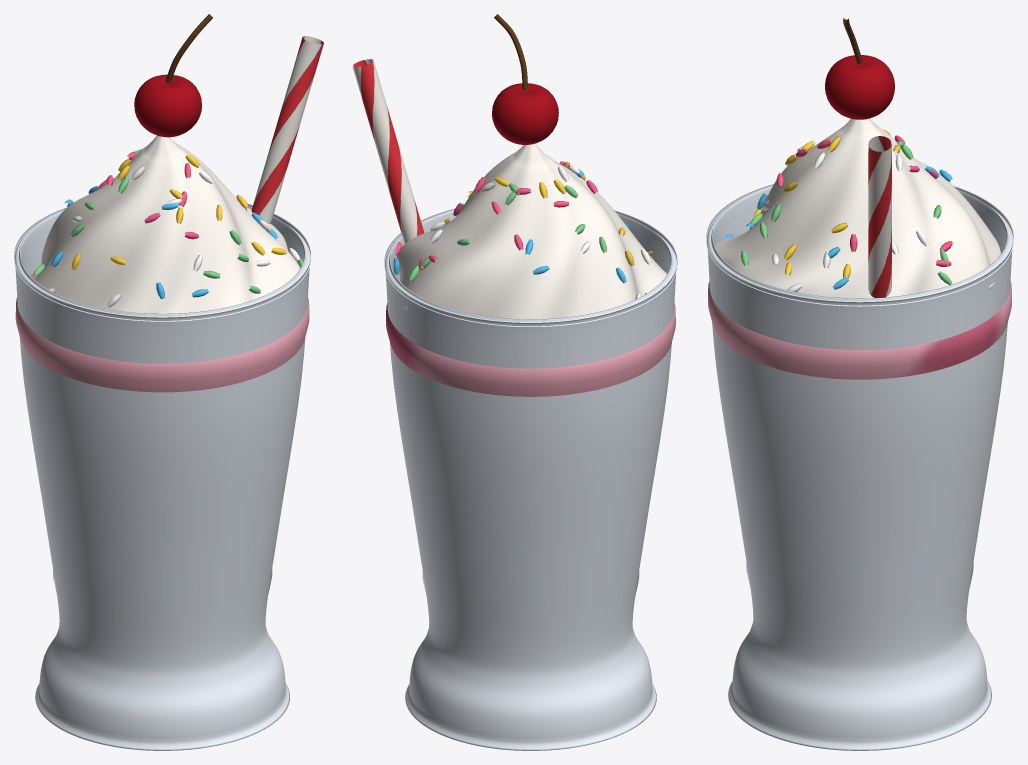
File: milkshake.glb
The picture shows the model from 3 angles, left to right: view 1: azimuth 30°, elevation 25°; view 2: azimuth 150°, elevation 25°; view 3: azimuth 270°, elevation 25°; orthographic projection. The views are drawn at different scales.
Parts seen in each view (by area): view 1: milkshake-morango; view 2: milkshake-morango; view 3: milkshake-morango.
Part boxes in pixels (x1=…): milkshake-morango: x1=14, y1=14, x2=323, y2=750; milkshake-morango: x1=352, y1=14, x2=677, y2=750; milkshake-morango: x1=706, y1=18, x2=1013, y2=750.
Bounding box in the file's own units: 0.1064 × 0.2319 × 0.0918.
Materials: 11 (2 with a texture image).
